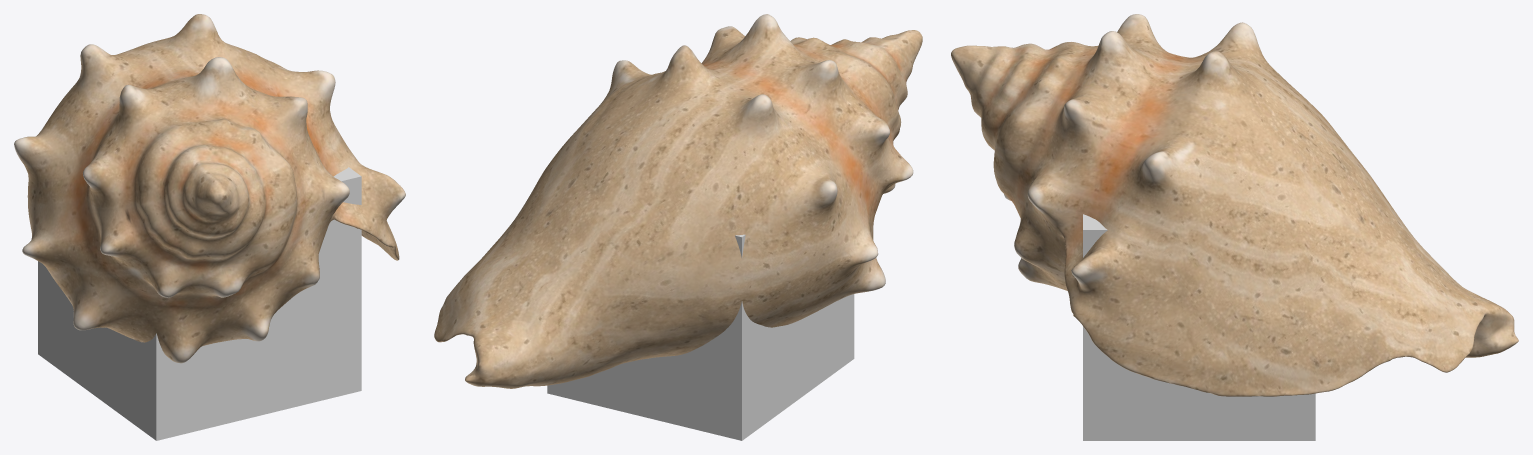
Rendered from Caracola quapaq ñan.glb.
The picture shows the model from 3 angles, left to right: view 1: azimuth 30°, elevation 25°; view 2: azimuth 150°, elevation 25°; view 3: azimuth 270°, elevation 25°; orthographic projection. The views are drawn at different scales.
Parts seen in each view (by area): view 1: Shell, Cube; view 2: Shell, Cube; view 3: Shell, Cube.
Boxes of the visible parts, x1,y1,x2,y2 form: Shell: (14,14,405,363); Cube: (38,167,361,440); Shell: (434,14,922,388); Cube: (547,234,854,440); Shell: (951,14,1518,396); Cube: (1083,214,1315,440).
Size of the model in its own units: 3.53 by 3.3 by 4.88.
2 materials, 1 textured.
